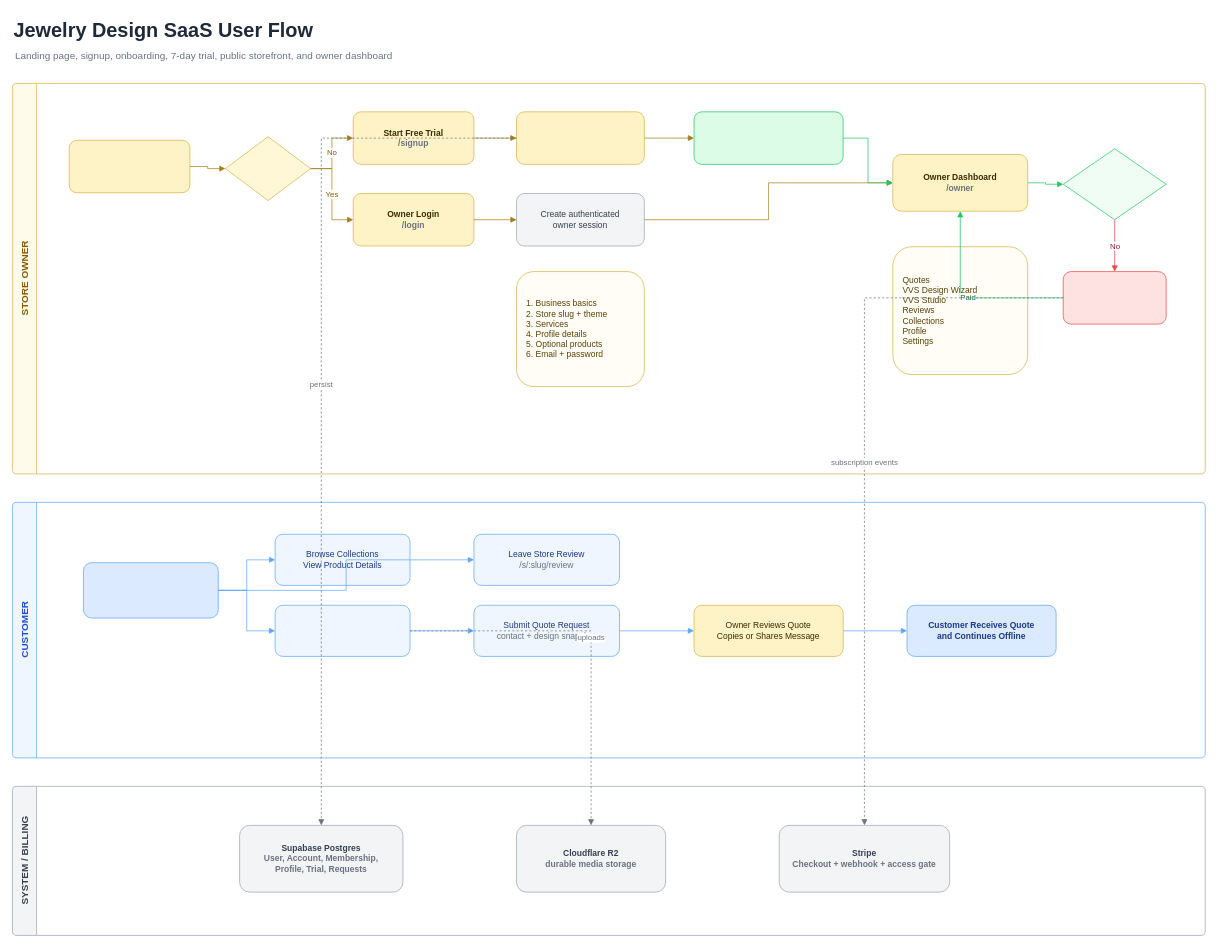
This 1218x948 diagram has some shape labels left out. Each missing label, with the centre of its shape:
6-Step Onboarding /onboarding: [580,137]
Activate 7-Day Trial trialEndsAt = now + 7 days: [768,137]
Design Custom Pendant /design or /name: [342,630]
Existing account?: [268,168]
Marketing Landing Page /: [129,166]
Public Storefront /s/:slug: [150,590]
Trial active or subscription paid?: [1114,184]
Upgrade / Billing Stripe Checkout: [1114,297]
